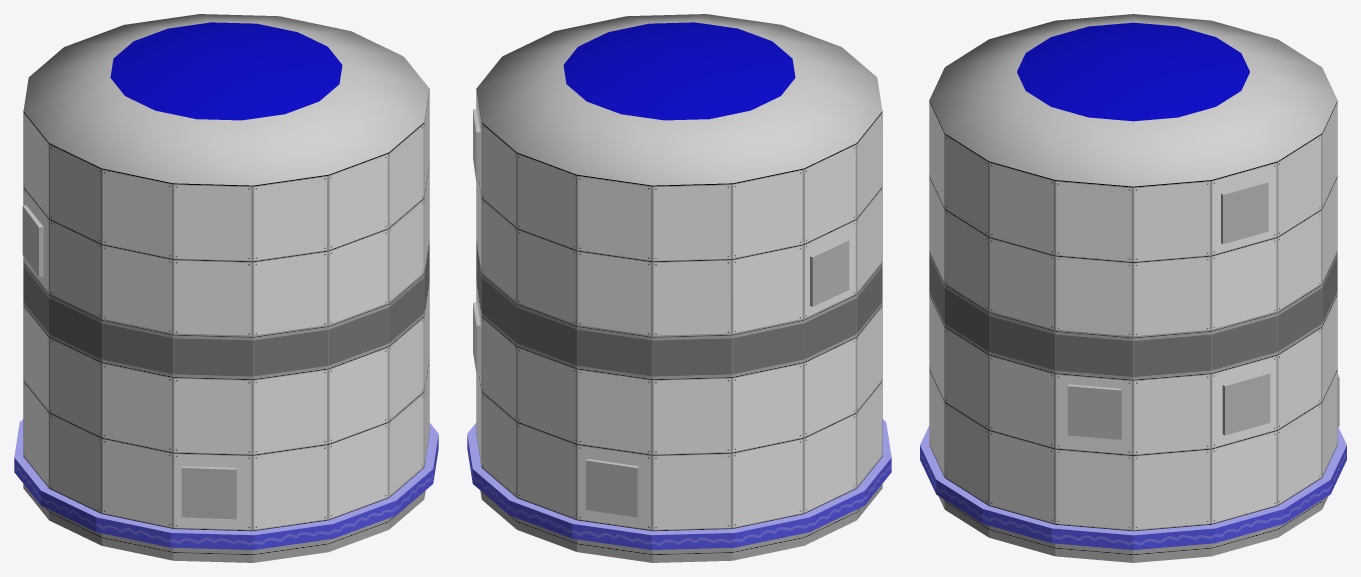
File: Char.obj
The picture shows the model from 3 angles, left to right: view 1: azimuth 30°, elevation 25°; view 2: azimuth 150°, elevation 25°; view 3: azimuth 270°, elevation 25°; orthographic projection.
Visible parts, largest first — view 1: Base_Cylinder, Arm.005_Cube.006, Arm_Cube; view 2: Base_Cylinder, Arm.004_Cube.005, Arm_Cube; view 3: Base_Cylinder, Arm.002_Cube.003, Arm.006_Cube.007, Arm.001_Cube.002.
Boxes of the visible parts, x1,y1,x2,y2 form: Base_Cylinder: (14,14,438,562); Arm.005_Cube.006: (181,466,236,519); Arm_Cube: (22,205,43,276); Base_Cylinder: (467,14,891,562); Arm.004_Cube.005: (586,459,638,517); Arm_Cube: (810,239,849,306); Base_Cylinder: (920,14,1346,562); Arm.002_Cube.003: (1067,384,1121,439); Arm.006_Cube.007: (1222,372,1270,435); Arm.001_Cube.002: (1221,181,1268,244).
Bounding box in the file's own units: 15.68 × 17.03 × 15.68.
